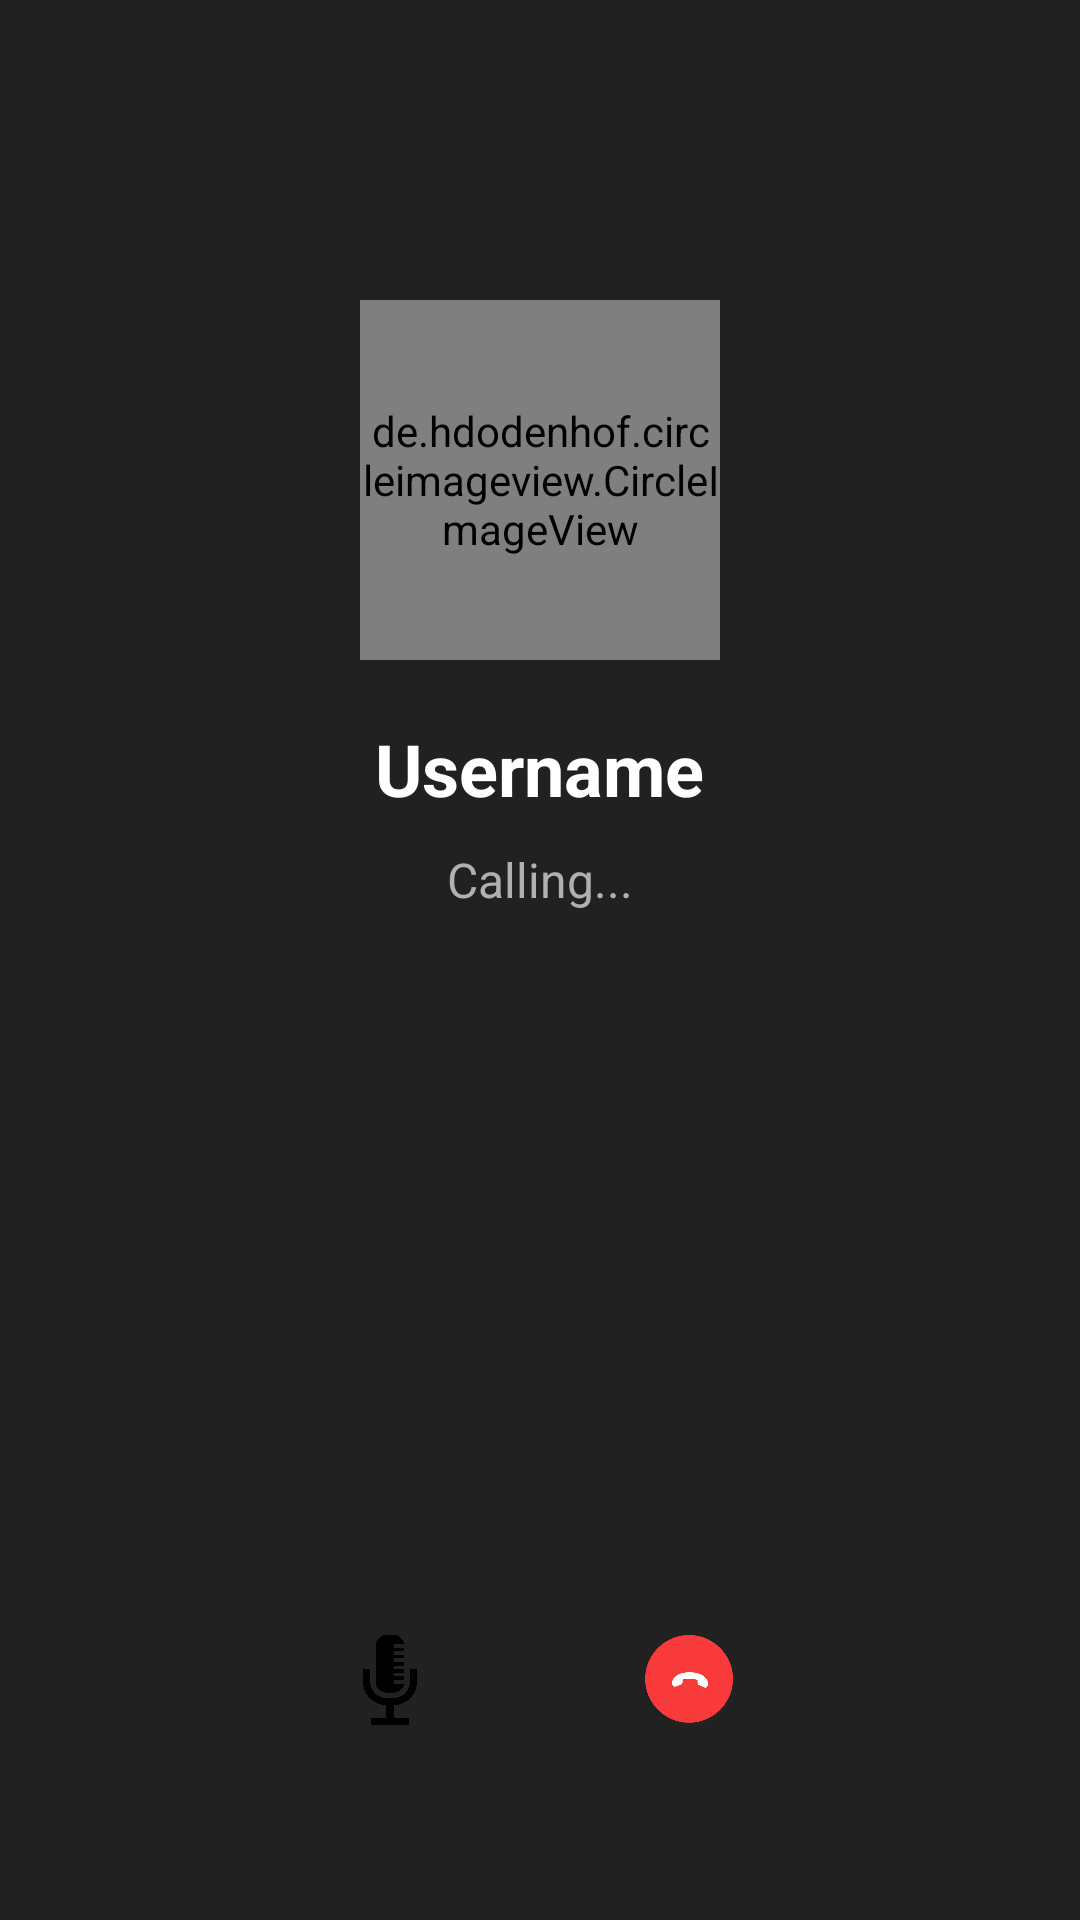

Named icons in this screenshot (1080w x 1920h) and their centers, (x=x, y=y):
End Call: (x=689, y=1679)
Mute: (x=390, y=1680)
